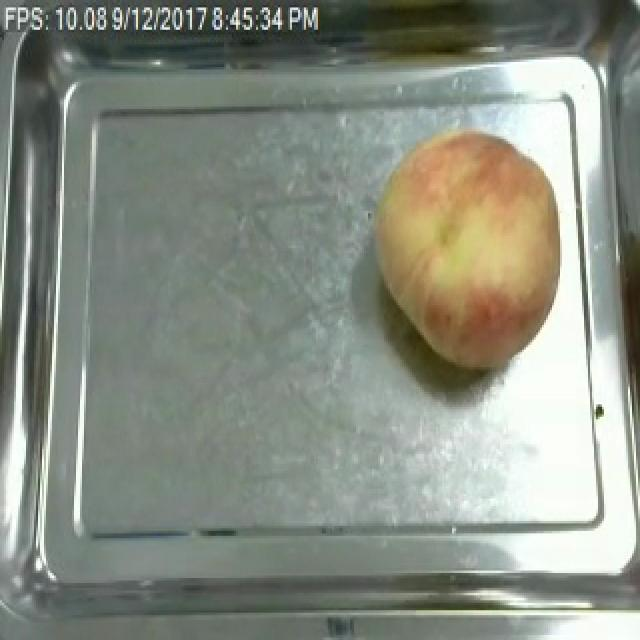Fruit: (364, 119, 574, 380)
